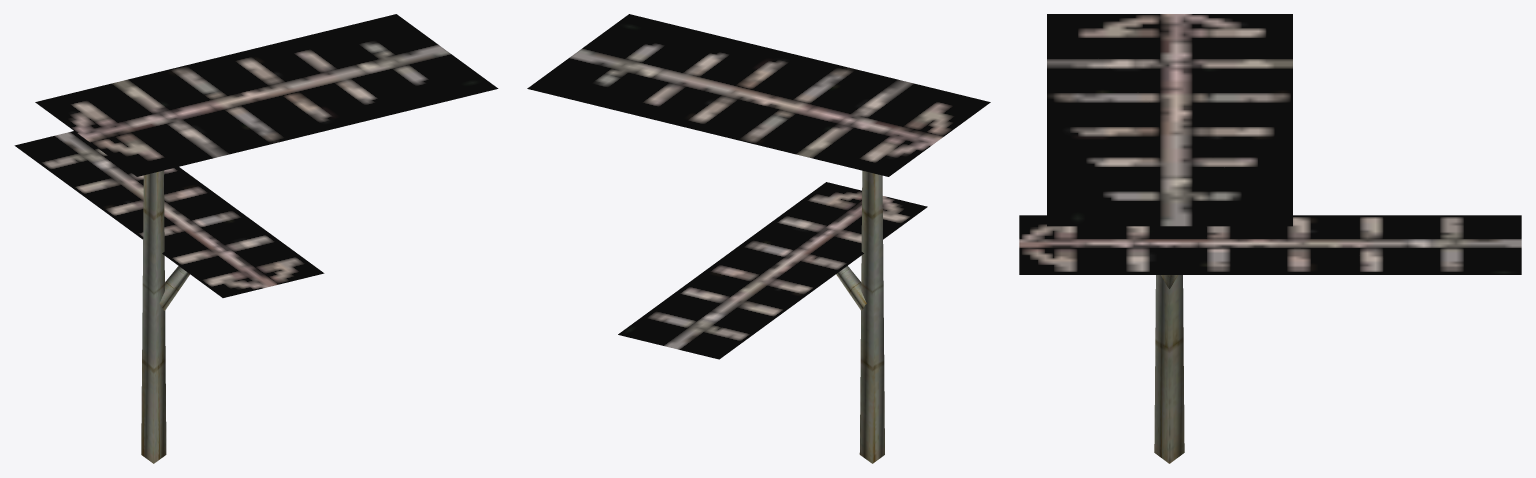
The model's file is M2_Ariel2.glb.
3 views of the same model, side by side, from view 1: azimuth 30°, elevation 25°; view 2: azimuth 150°, elevation 25°; view 3: azimuth 270°, elevation 25° (orthographic). The views are drawn at different scales.
Parts seen in each view (by area): view 1: M2_ARIEL2; view 2: M2_ARIEL2; view 3: M2_ARIEL2.
Boxes of the visible parts, x1,y1,x2,y2 form: M2_ARIEL2: (14,14,498,463); M2_ARIEL2: (527,14,990,463); M2_ARIEL2: (1019,14,1521,463).
Bounding box in the file's own units: 1.6 × 1.41 × 1.6.
2 materials, 2 textured.
